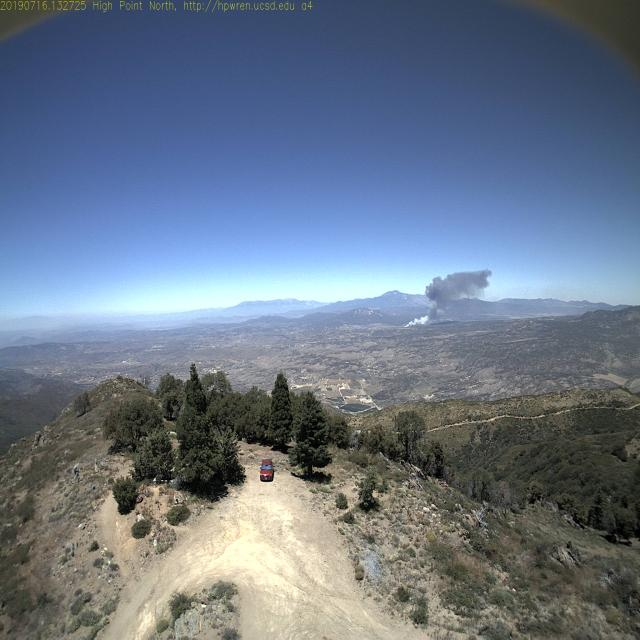smoke: (393, 298, 446, 334)
